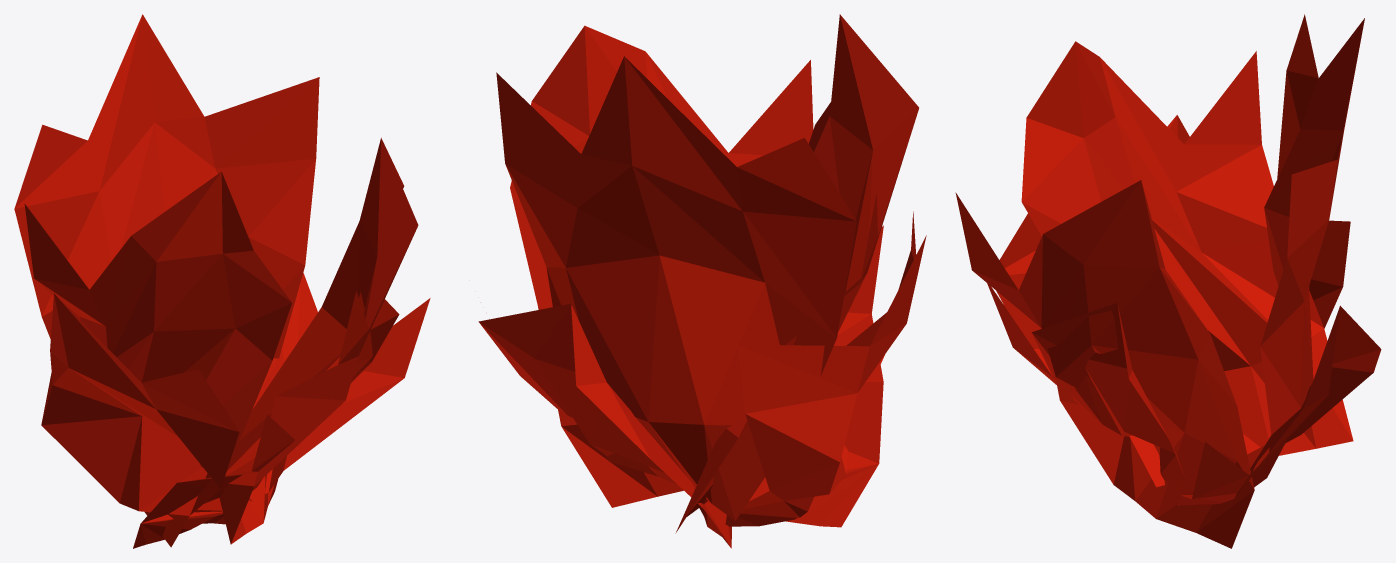
Rendered from fire-no-embers.obj.
The picture shows the model from 3 angles, left to right: view 1: azimuth 30°, elevation 25°; view 2: azimuth 150°, elevation 25°; view 3: azimuth 270°, elevation 25°; orthographic projection. The views are drawn at different scales.
Parts seen in each view (by area): view 1: Fire; view 2: Fire; view 3: Fire.
Part boxes in pixels (left/top/right/bottom): Fire: left=14, top=14, right=430, bottom=548; Fire: left=478, top=14, right=926, bottom=548; Fire: left=955, top=14, right=1381, bottom=548.
Bounding box in the file's own units: 0.719 × 0.8102 × 0.6223.
